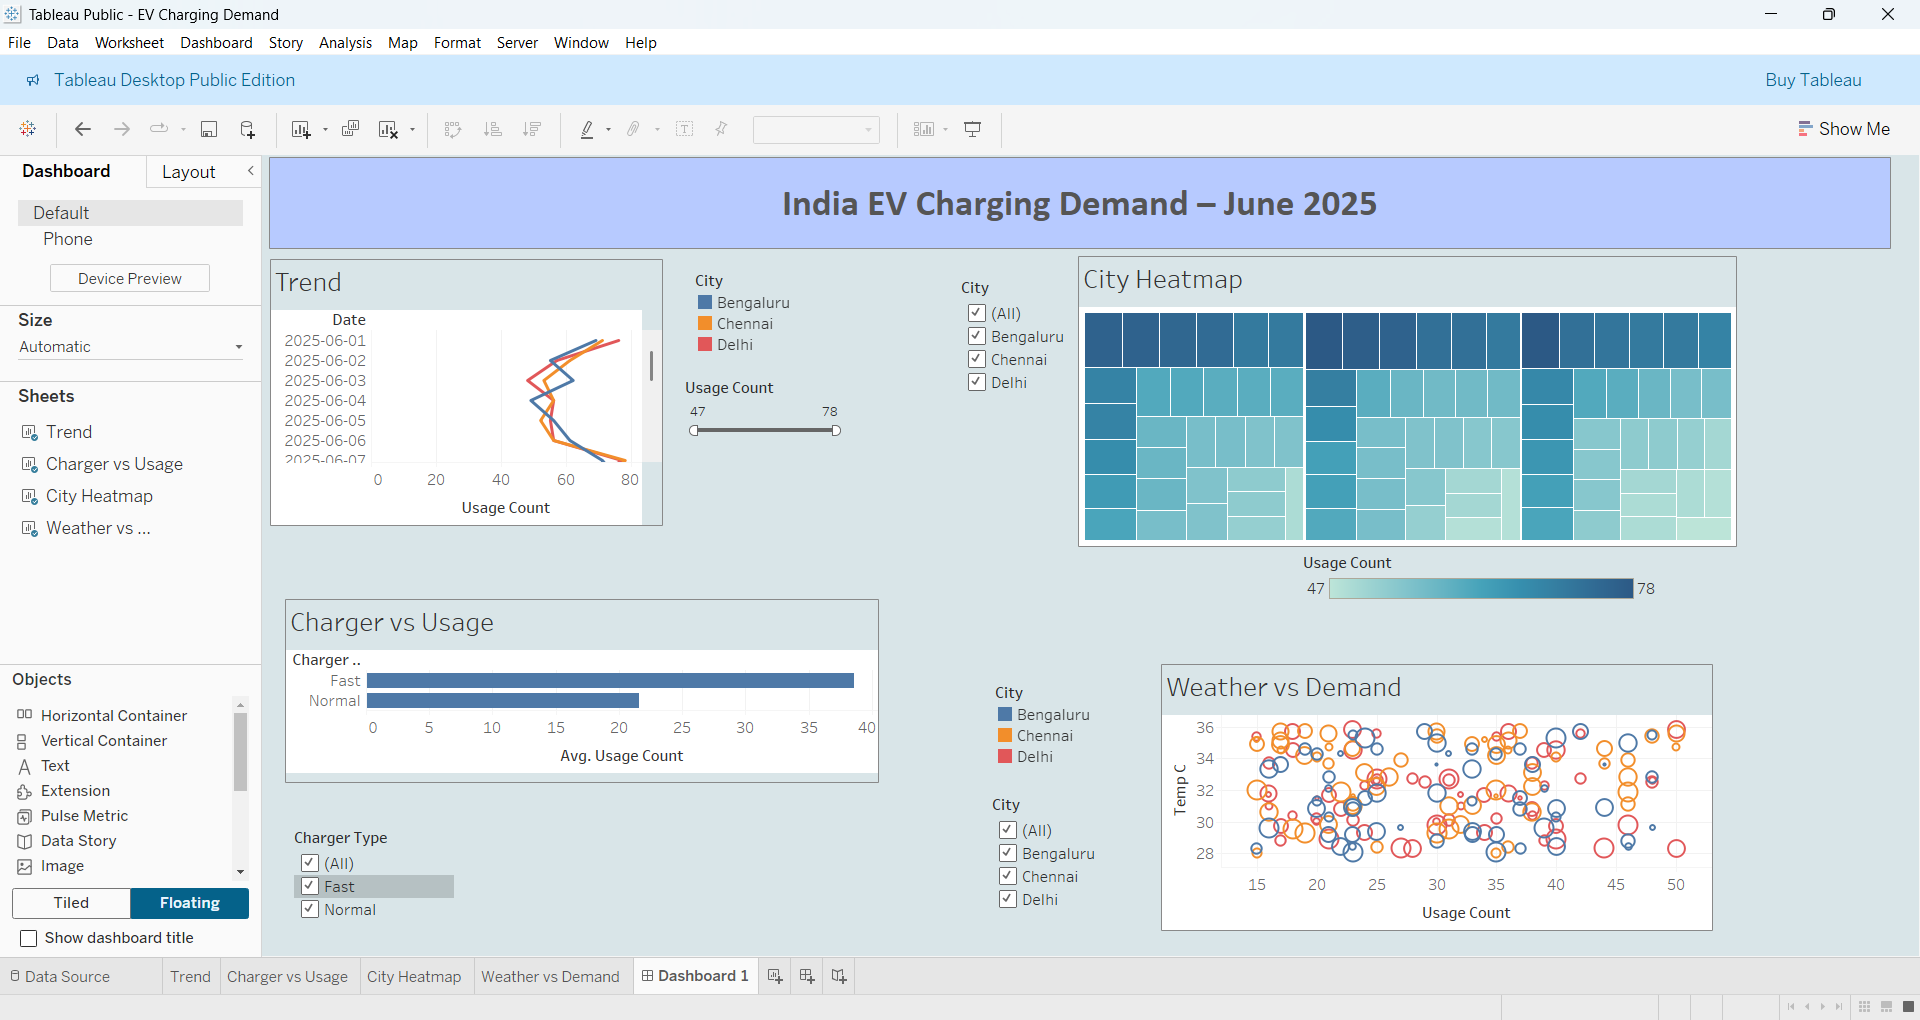

The dashboard page shown, as its layout file describes it:
{"tool":"tableau","page":{"name":"Dashboard 1","canvas":[1000,1000],"units":"permille","ordinal":0},"visuals":[{"type":"text","box":[4.2,2.5,978.9,114.9]},{"type":"worksheet","title":"City Heatmap","mark":"Automatic","box":[492.5,126.1,397.7,363.3]},{"type":"worksheet","title":"Trend","mark":"Line","rows":["Date"],"cols":["Usage Count"],"box":[4.8,129.8,237.2,333.3]},{"type":"legend","title":"Trend","param":"[federated.1on41vo14ieipl11rii5y1uhcef1].[none:City:nk]","box":[261.3,143.6,215.5,106.1]},{"type":"filter","title":"City Heatmap","param":"[federated.1on41vo14ieipl11rii5y1uhcef1].[none:City:nk]","box":[421.9,152.3,96.6,149.8]},{"type":"filter","title":"Trend","param":"[federated.1on41vo14ieipl11rii5y1uhcef1].[sum:Usage Count:qk]","box":[255.3,277.2,96.6,81.2]},{"type":"legend","title":"City Heatmap","param":"[federated.1on41vo14ieipl11rii5y1uhcef1].[sum:Usage Count:qk]","box":[628.2,495.6,215.5,108.6]},{"type":"worksheet","title":"Charger vs Usage","mark":"Bar","rows":["Charger Type"],"cols":["Usage Count"],"box":[13.9,554.3,358.5,229.7]},{"type":"worksheet","title":"Weather vs Demand","mark":"Automatic","rows":["Temp_C"],"cols":["Usage Count"],"box":[542.5,635.5,333.1,333.3]},{"type":"legend","title":"Weather vs Demand","param":"[federated.1on41vo14ieipl11rii5y1uhcef1].[none:City:nk]","box":[442.4,657.9,84.5,106.1]},{"type":"filter","title":"Weather vs Demand","param":"[federated.1on41vo14ieipl11rii5y1uhcef1].[none:City:nk]","box":[440.6,797.8,96.6,149.8]},{"type":"filter","title":"Charger vs Usage","param":"[federated.1on41vo14ieipl11rii5y1uhcef1].[none:Charger Type:nk]","box":[19.3,839,96.6,121.1]}]}

Visuals, with their boxes on the dashboard's canvas, which has no fixed pixel size, in thousandths of its width and height (x1, y1, x2, y2). These are canvas units, not pixel positions in the 1920x1020 screenshot, which may show the page scaled, cropped or inside an application window:
text: x1=4 y1=2 x2=983 y2=117
"City Heatmap" worksheet: x1=492 y1=126 x2=890 y2=489
"Trend" worksheet (Line marks): x1=5 y1=130 x2=242 y2=463
"Trend" legend: x1=261 y1=144 x2=477 y2=250
"City Heatmap" filter: x1=422 y1=152 x2=518 y2=302
"Trend" filter: x1=255 y1=277 x2=352 y2=358
"City Heatmap" legend: x1=628 y1=496 x2=844 y2=604
"Charger vs Usage" worksheet (Bar marks): x1=14 y1=554 x2=372 y2=784
"Weather vs Demand" worksheet: x1=542 y1=636 x2=876 y2=969
"Weather vs Demand" legend: x1=442 y1=658 x2=527 y2=764
"Weather vs Demand" filter: x1=441 y1=798 x2=537 y2=948
"Charger vs Usage" filter: x1=19 y1=839 x2=116 y2=960
